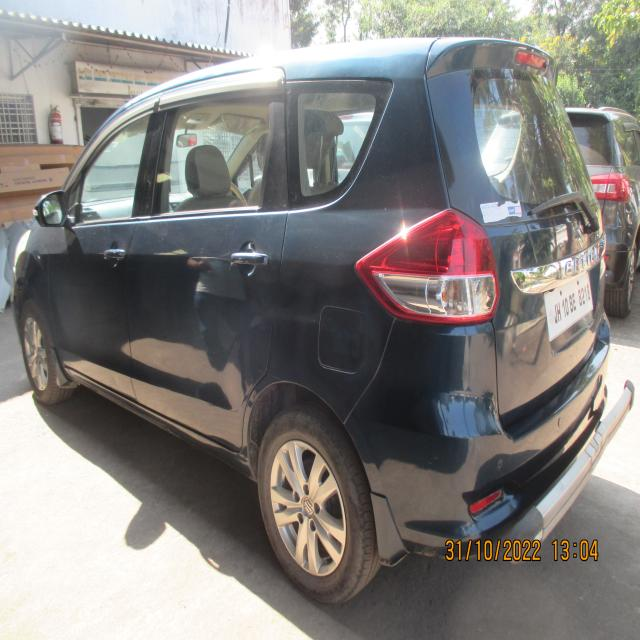damage: (150, 246, 227, 279)
